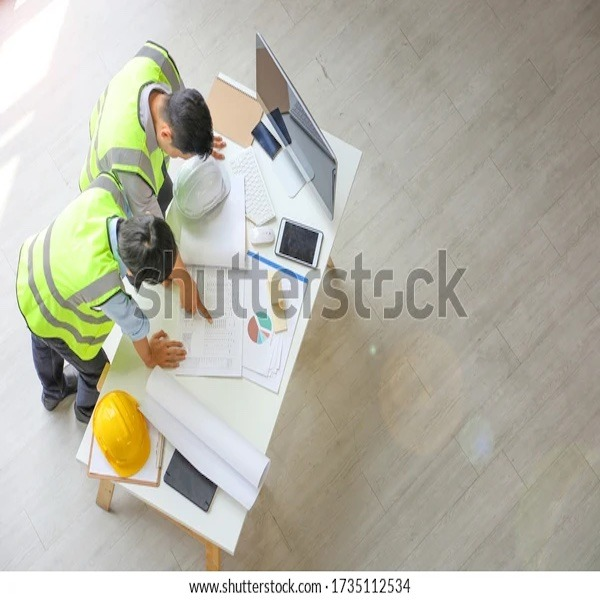helmet: (89, 391, 155, 460)
vest: (35, 186, 128, 351), (81, 49, 172, 173)
